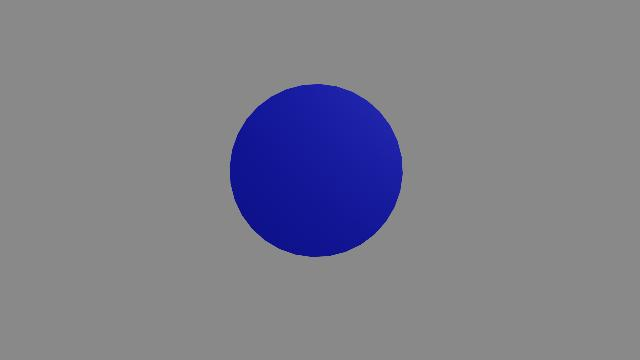Cylinder: (224, 80, 408, 262)
